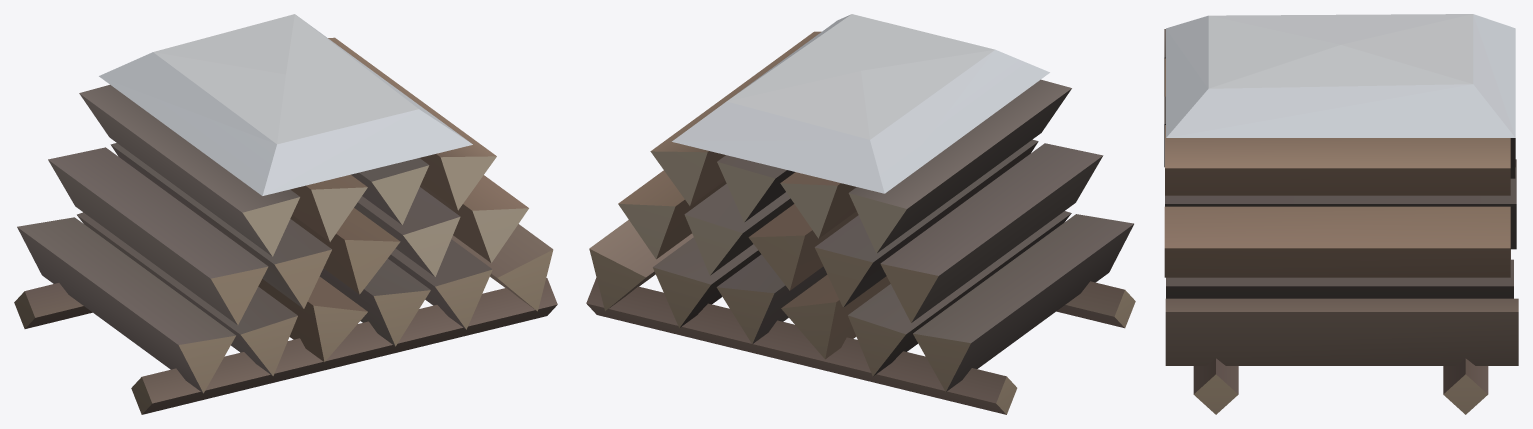
The model's file is logs.lod2.glb.
3 renders of one model, left to right at view 1: azimuth 30°, elevation 25°; view 2: azimuth 150°, elevation 25°; view 3: azimuth 270°, elevation 25°, orthographic. The views are drawn at different scales.
Size of the model in its own units: 2 by 1.17 by 1.42.
